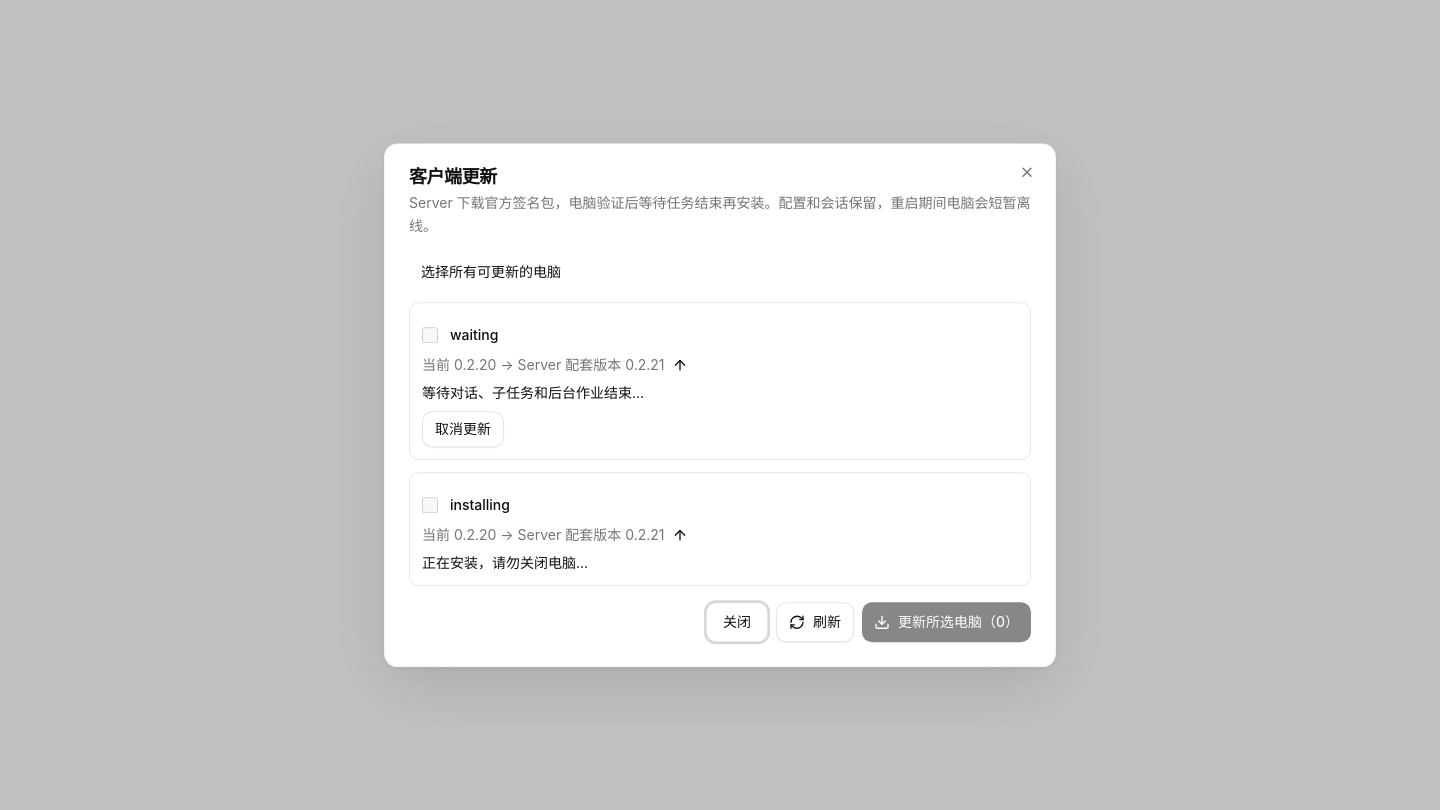
Test: offers cancellation while waiting for work, but not while binaries are being installed
Expected: the button "更新所选电脑（0）" is disabled, top-left (862, 602), bottom-right (1031, 642)
Click the button "取消更新" at (463, 429), box top-left (422, 411), bottom-right (504, 447)
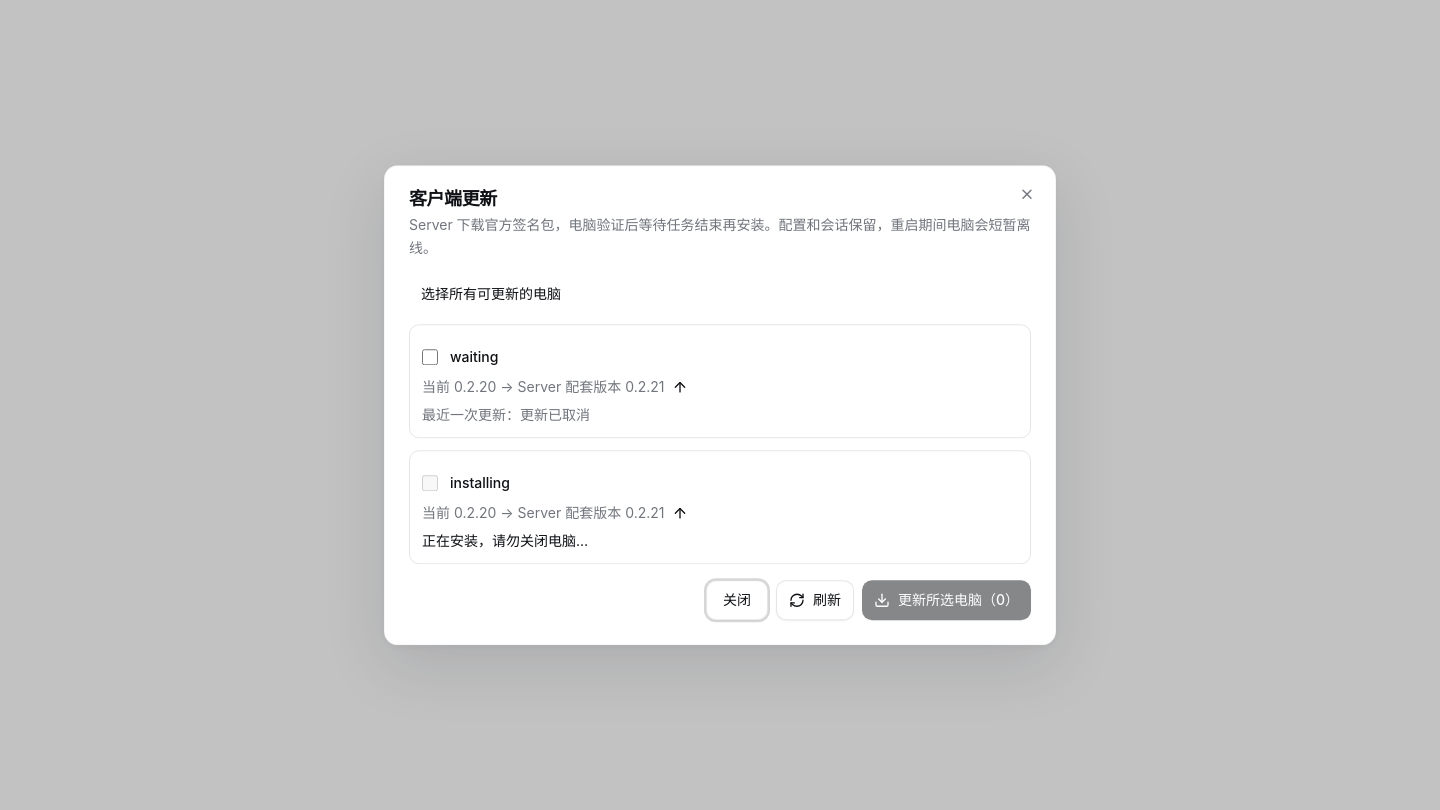
Expected: the element showing "waiting 当前 0.2.20 → Server 配套版本 0.2.21 最近一次更新：更新已取消" is shown, top-left (409, 324), bottom-right (1031, 438)
